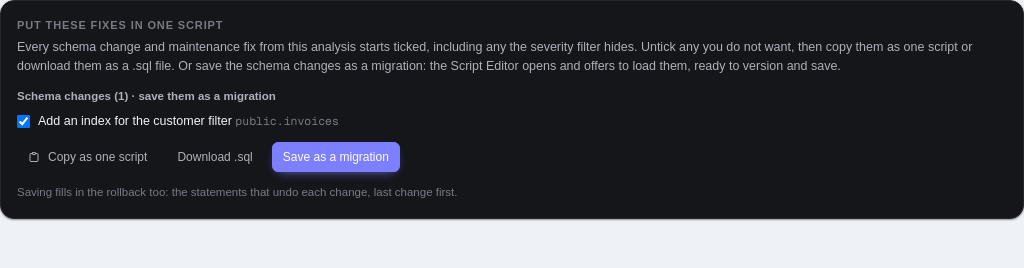
Test: copying the script › points at Download when the browser blocks the clipboard
Click the button "Copy as one script" at (88, 157), box [17, 142, 158, 172]
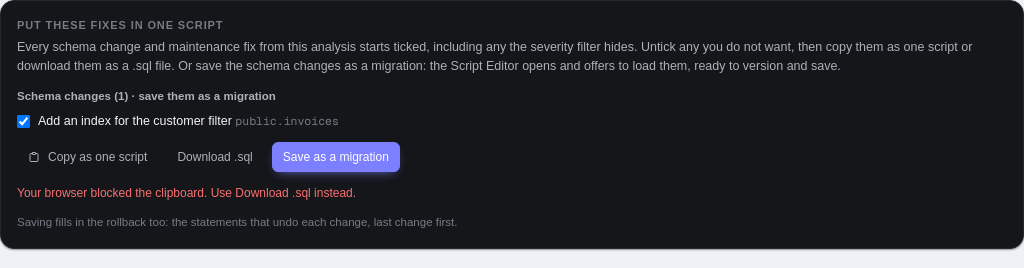
Check: the text "Your browser blocked the clipboard. Use Download .sql instead." is shown, box [17, 186, 356, 200]
